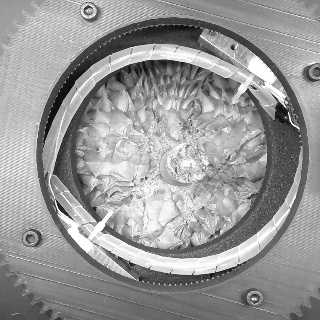base: (149, 141, 210, 193)
end: (166, 142, 206, 184)
